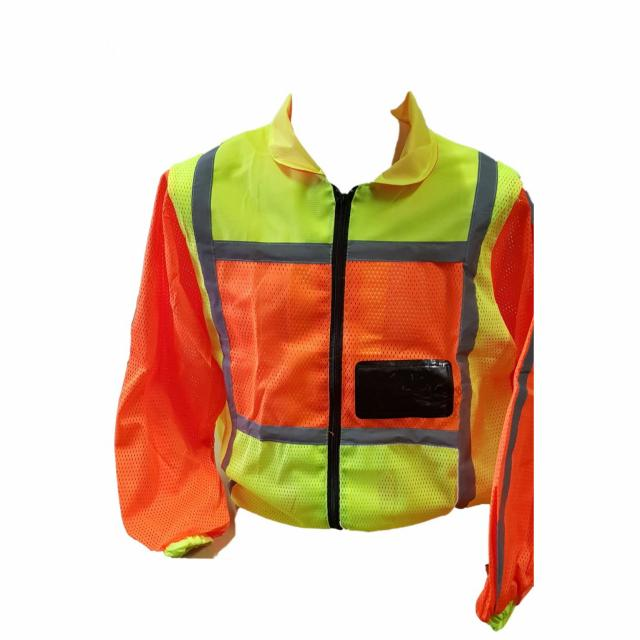Reflective-Jacket: (112, 104, 549, 548)
